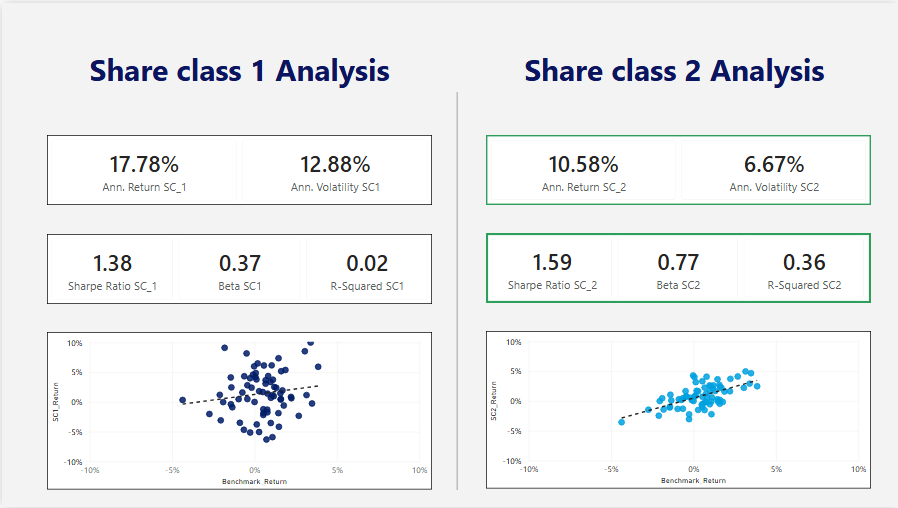

This screenshot's page, from the dashboard's own definition file:
{"tool":"powerbi","page":{"name":"Risk and Return Analysis","canvas":[1280,720],"ordinal":1},"visuals":[{"type":"scatterChart","fields":{"X":["SimulatedData.Benchmark_Return"],"Y":["SimulatedData.SC1_Return"]},"box":[63.8,470,550,225],"z":0},{"type":"cardVisual","fields":{"Data":["SimulatedData.Ann. Return SC_1","SimulatedData.Ann. Volatility SC1"]},"box":[64,189,550,100],"z":1000},{"type":"scatterChart","fields":{"X":["SimulatedData.Benchmark_Return"],"Y":["SimulatedData.SC2_Return"]},"box":[691.4,469,550,225],"z":2000},{"type":"cardVisual","fields":{"Data":["SimulatedData.Sharpe Ratio SC_1","SimulatedData.Beta SC1","SimulatedData.R-Squared SC1"]},"box":[64,329.5,550,100],"z":3000},{"type":"cardVisual","fields":{"Data":["SimulatedData.Ann. Return SC_2","SimulatedData.Ann. Volatility SC2"]},"box":[691,189,550,100],"z":5000},{"type":"textbox","box":[63.8,60,550,76.7],"z":6000},{"type":"cardVisual","fields":{"Data":["SimulatedData.Sharpe Ratio SC_2","SimulatedData.Beta SC2","SimulatedData.R-Squared SC2"]},"box":[691,329,550,100],"z":7000},{"type":"textbox","box":[691.2,60,550,76],"z":8000},{"type":"shape","box":[621.1,126.7,57.8,568.9],"z":9000}]}

Visuals, with their boxes in screenshot pixels (x1, y1, x2, y2), scaled from the page's 1280x720 canvas onto the 898x508 screenshot:
scatterChart - SimulatedData.Benchmark_Return x SimulatedData.SC1_Return: [left=45, top=332, right=431, bottom=490]
cardVisual - SimulatedData.Ann. Return SC_1 x SimulatedData.Ann. Volatility SC1: [left=45, top=133, right=431, bottom=204]
scatterChart - SimulatedData.Benchmark_Return x SimulatedData.SC2_Return: [left=485, top=331, right=871, bottom=490]
cardVisual - SimulatedData.Sharpe Ratio SC_1 x SimulatedData.Beta SC1: [left=45, top=232, right=431, bottom=303]
cardVisual - SimulatedData.Ann. Return SC_2 x SimulatedData.Ann. Volatility SC2: [left=485, top=133, right=871, bottom=204]
textbox: [left=45, top=42, right=431, bottom=96]
cardVisual - SimulatedData.Sharpe Ratio SC_2 x SimulatedData.Beta SC2: [left=485, top=232, right=871, bottom=303]
textbox: [left=485, top=42, right=871, bottom=96]
shape: [left=436, top=89, right=476, bottom=491]
